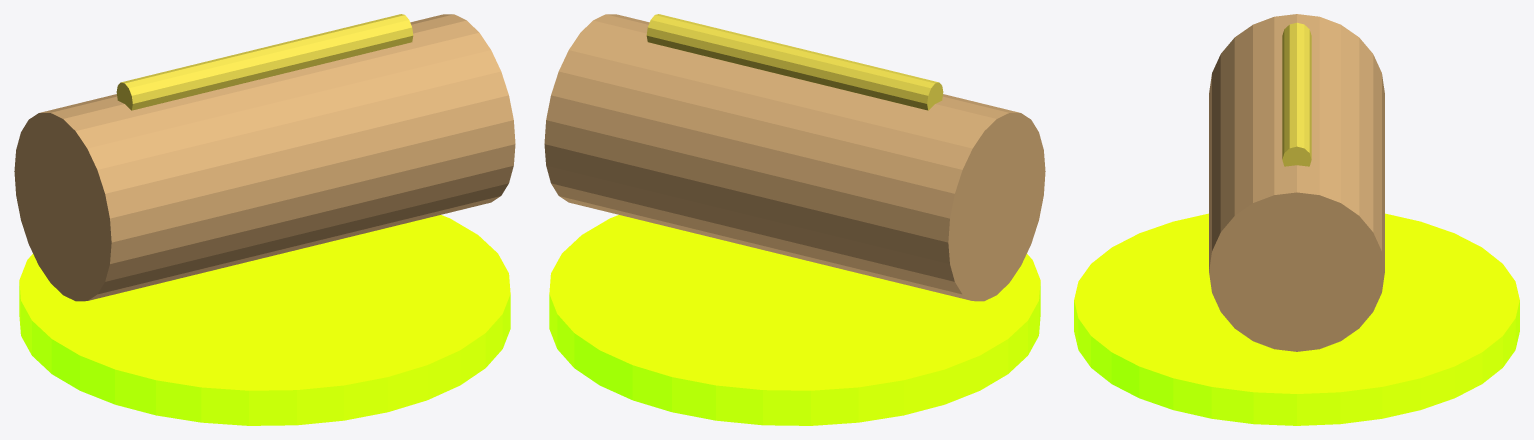
Rendered from food_hot_dog.glb.
3 views of the same model, side by side, from view 1: azimuth 30°, elevation 25°; view 2: azimuth 150°, elevation 25°; view 3: azimuth 270°, elevation 25° (orthographic). The views are drawn at different scales.
Parts seen in each view (by area): view 1: 01_10_Popular_Food_Hot_Dog_part_01, 01_10_Popular_Food_Hot_Dog_ROOT_base, 01_10_Popular_Food_Hot_Dog_part_03; view 2: 01_10_Popular_Food_Hot_Dog_part_01, 01_10_Popular_Food_Hot_Dog_ROOT_base, 01_10_Popular_Food_Hot_Dog_part_03; view 3: 01_10_Popular_Food_Hot_Dog_ROOT_base, 01_10_Popular_Food_Hot_Dog_part_01, 01_10_Popular_Food_Hot_Dog_part_03.
Boxes of the visible parts, bbox=[...] form: 01_10_Popular_Food_Hot_Dog_part_01: bbox=[14, 14, 515, 301]; 01_10_Popular_Food_Hot_Dog_ROOT_base: bbox=[19, 215, 510, 425]; 01_10_Popular_Food_Hot_Dog_part_03: bbox=[116, 14, 413, 110]; 01_10_Popular_Food_Hot_Dog_part_01: bbox=[544, 14, 1045, 301]; 01_10_Popular_Food_Hot_Dog_ROOT_base: bbox=[549, 215, 1040, 425]; 01_10_Popular_Food_Hot_Dog_part_03: bbox=[646, 14, 943, 110]; 01_10_Popular_Food_Hot_Dog_ROOT_base: bbox=[1074, 213, 1519, 425]; 01_10_Popular_Food_Hot_Dog_part_01: bbox=[1209, 14, 1384, 351]; 01_10_Popular_Food_Hot_Dog_part_03: bbox=[1282, 22, 1311, 166].
Bounding box in the file's own units: 0.76 × 0.465 × 0.76.
